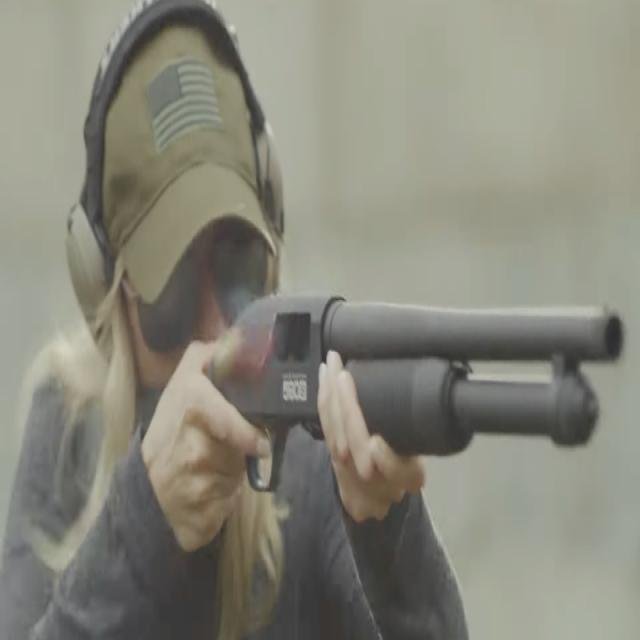ShotGun: (137, 296, 625, 492)
